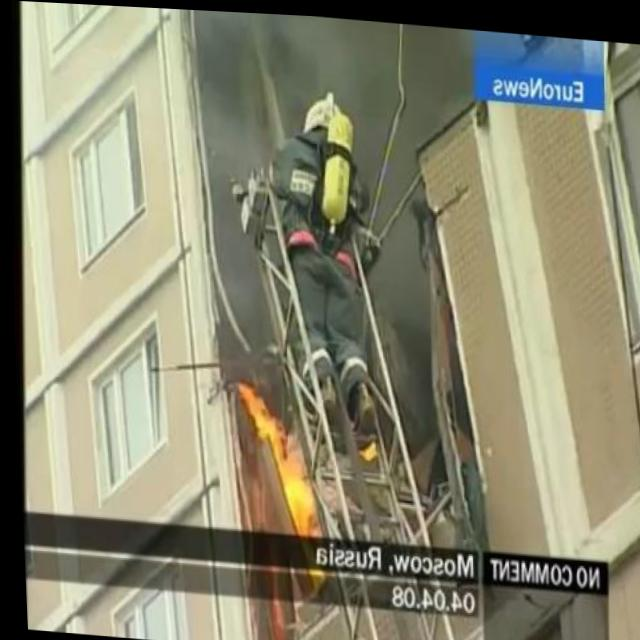fire: (226, 372, 320, 532), (352, 434, 378, 459)
